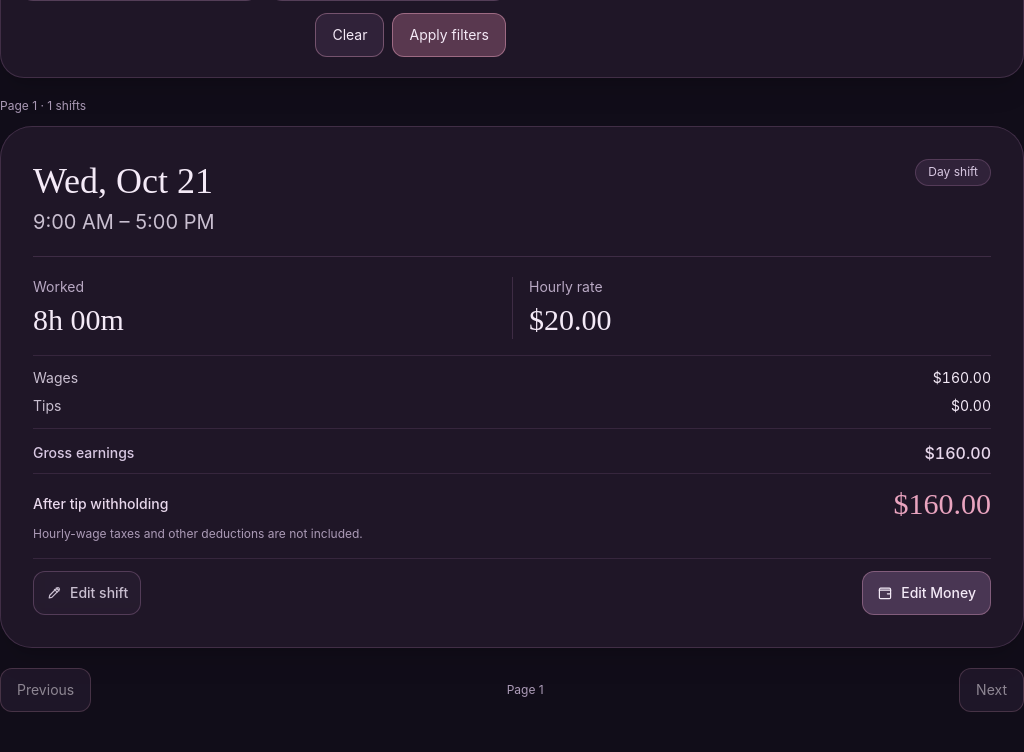
it: shift history navigation and list size › opens the saved shift in the existing editor and keeps one Edit Money action
This screenshot has width=1024, height=752.
(page scrolled)
Click the button "Edit shift".
click(87, 592)  # box 33,570 -> 141,614
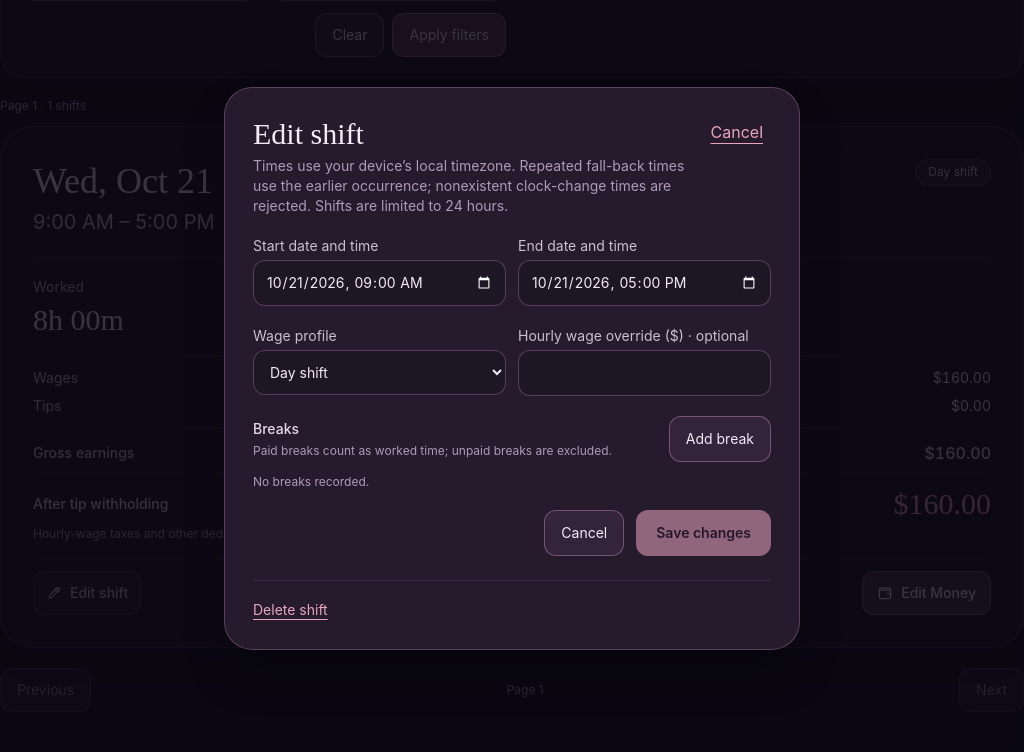
Check: the number of buttons "Edit Money" is 1, box 862,570 -> 991,614
Check: the dialog "Edit shift" is shown, box 224,86 -> 800,650
